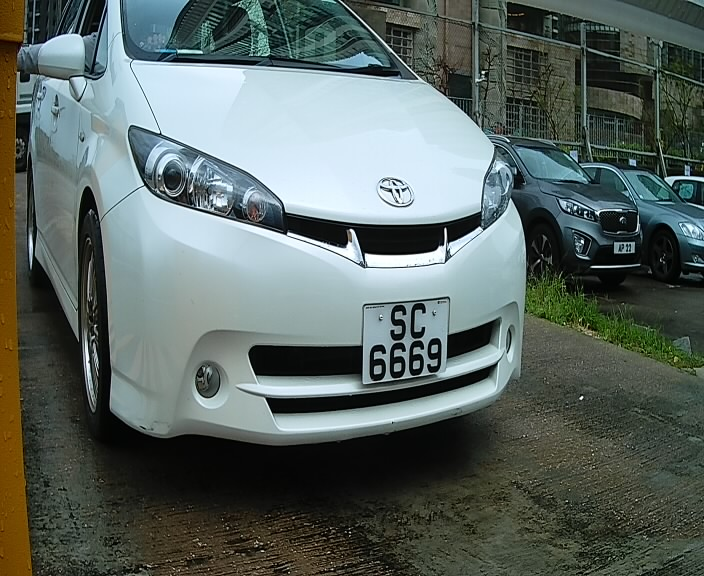Car: (2, 2, 527, 493)
License Plate: (354, 287, 464, 396)
